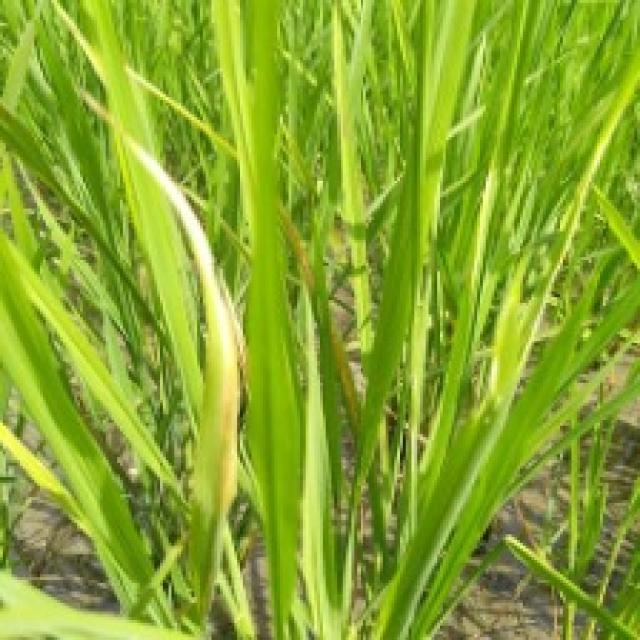Rice___Bacterial_Leaf_Blight: (80, 92, 243, 637)
